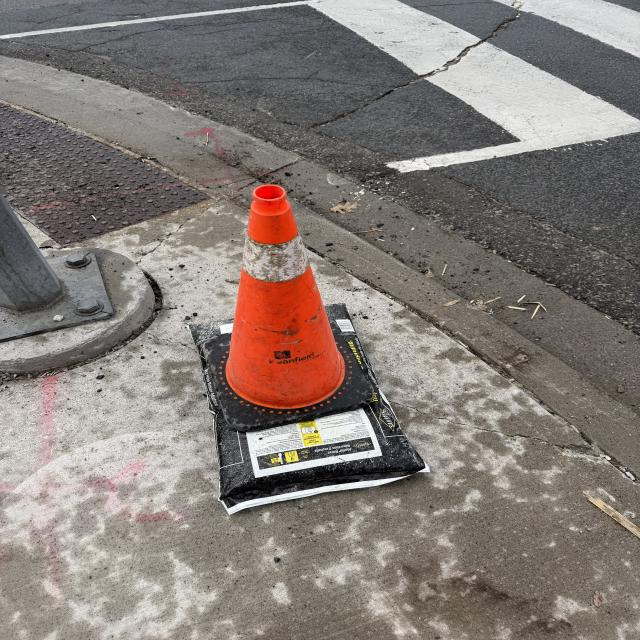Traffic Cone: (202, 183, 374, 431)
